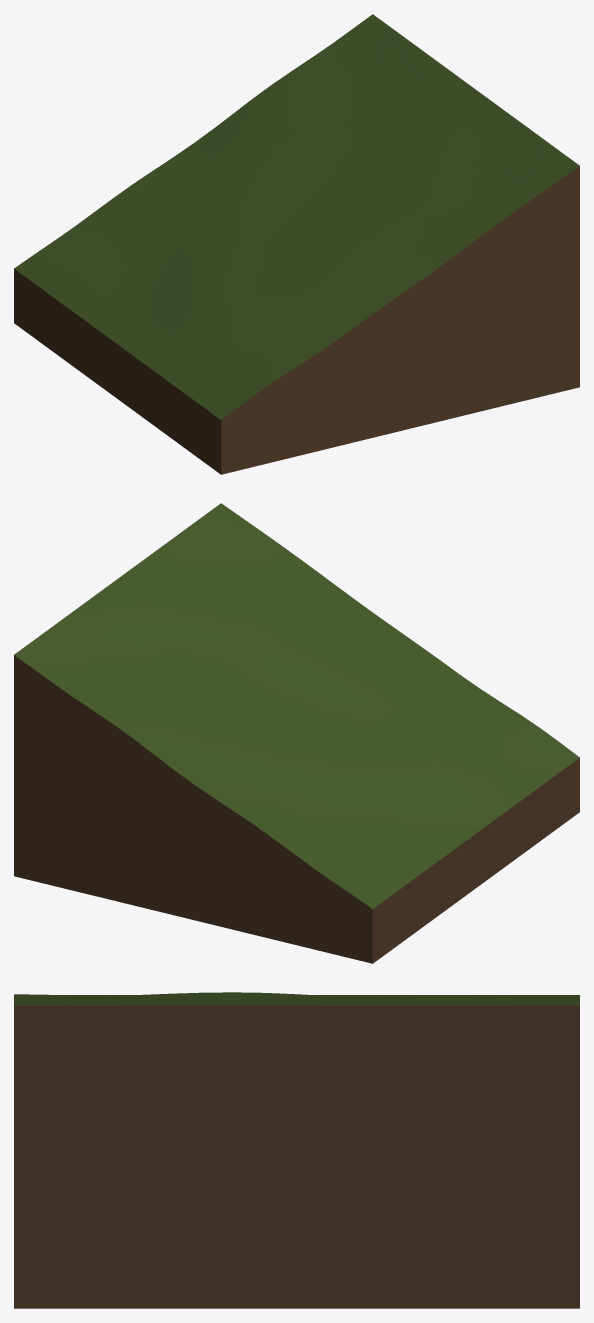
3 renders of one model, top to bottom at view 1: azimuth 30°, elevation 25°; view 2: azimuth 150°, elevation 25°; view 3: azimuth 270°, elevation 25°, orthographic. The views are drawn at different scales.
Parts seen in each view (by area): view 1: b2go; view 2: b2go; view 3: b2go.
Boxes of the visible parts, x1,y1,x2,y2 form: b2go: (14,14,579,474); b2go: (14,503,579,963); b2go: (14,992,579,1308).
Bounding box in the file's own units: 9 × 5.31 × 9.
